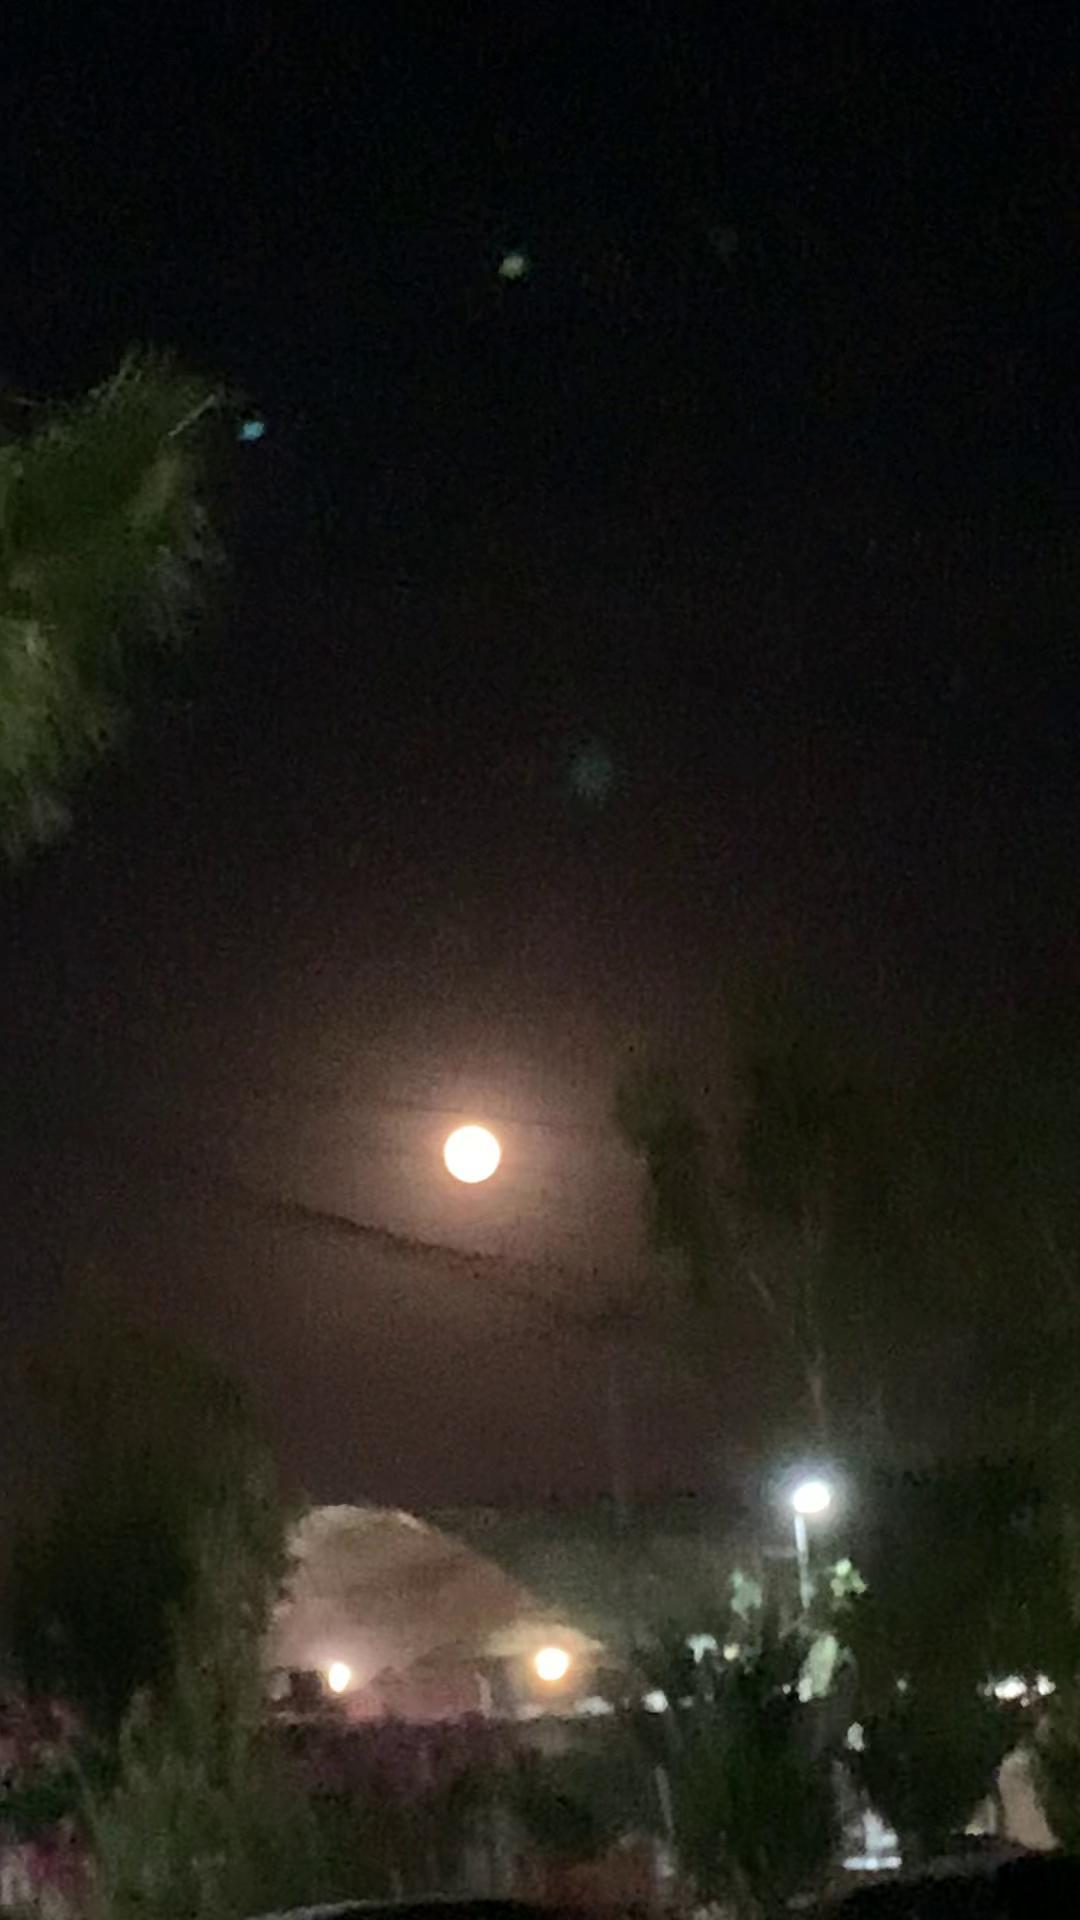moon: (418, 1109, 526, 1204)
